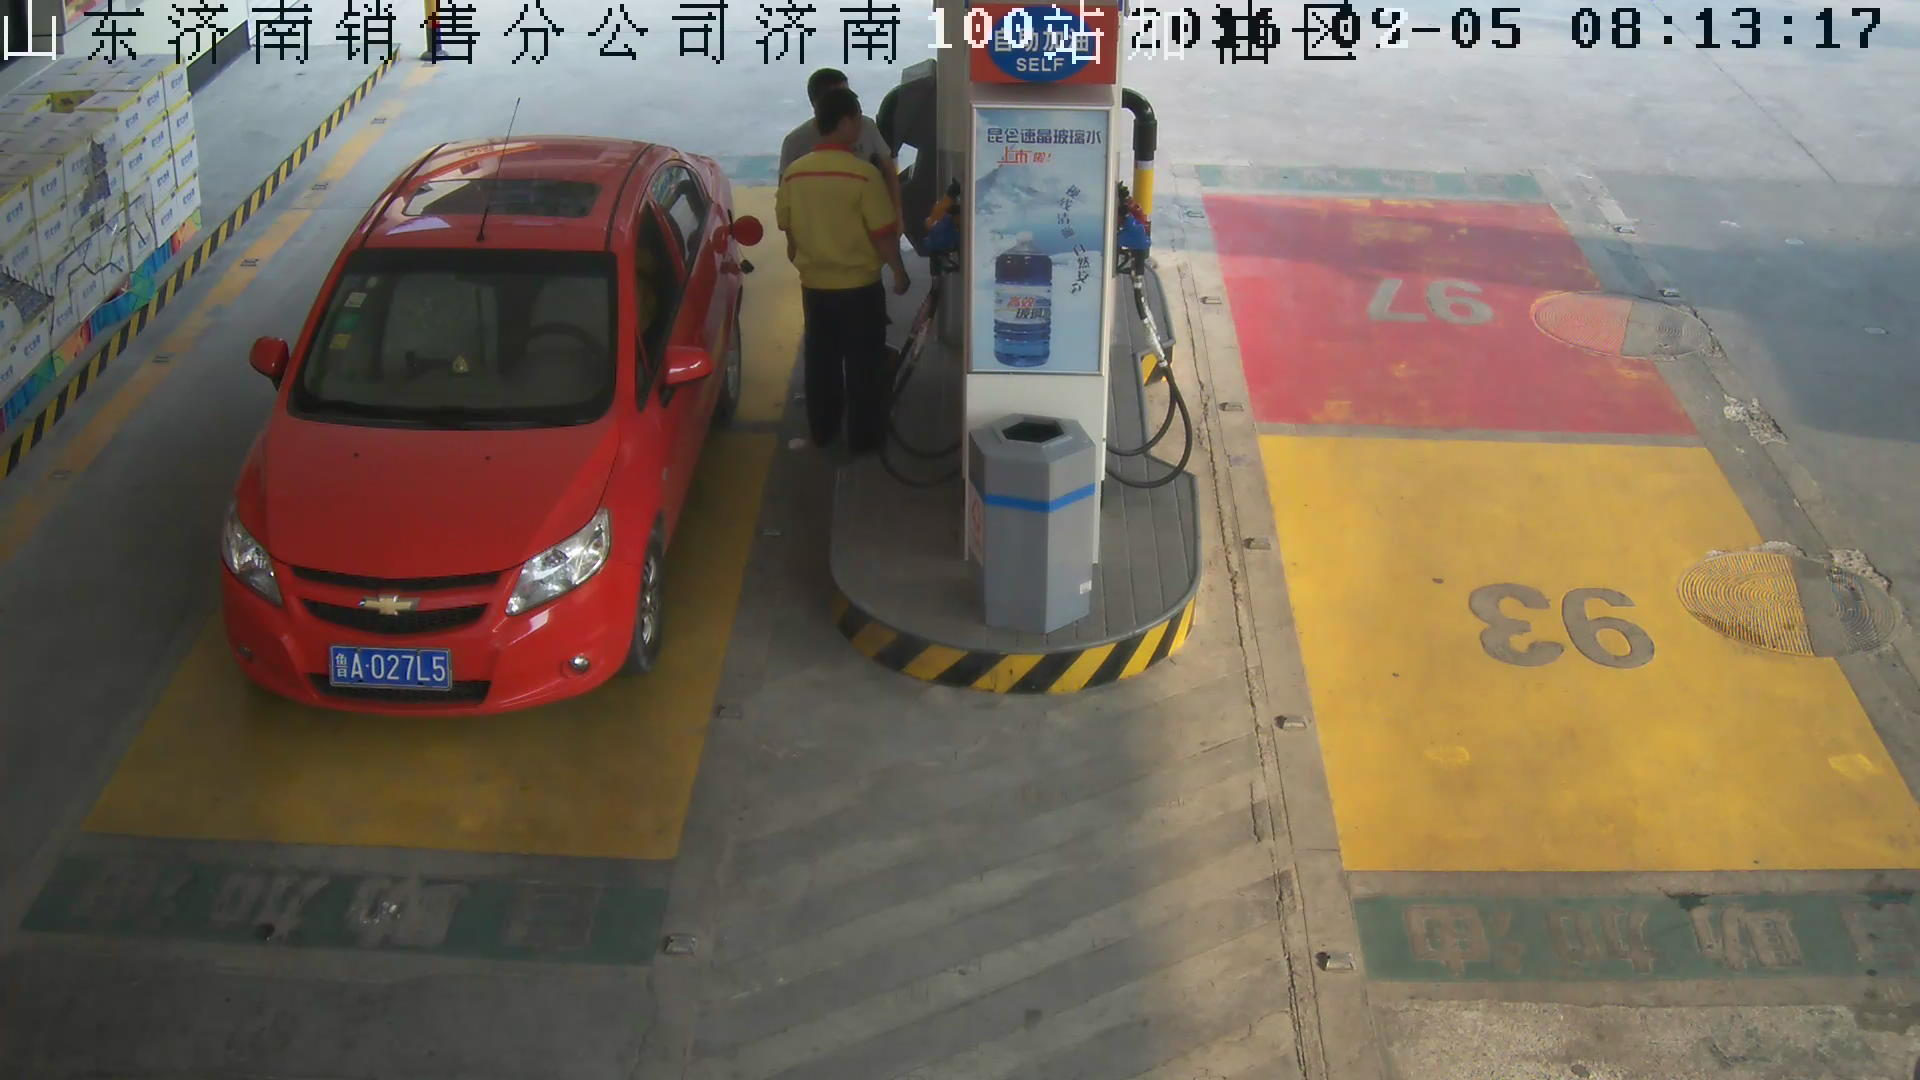blue: (327, 647, 456, 695)
